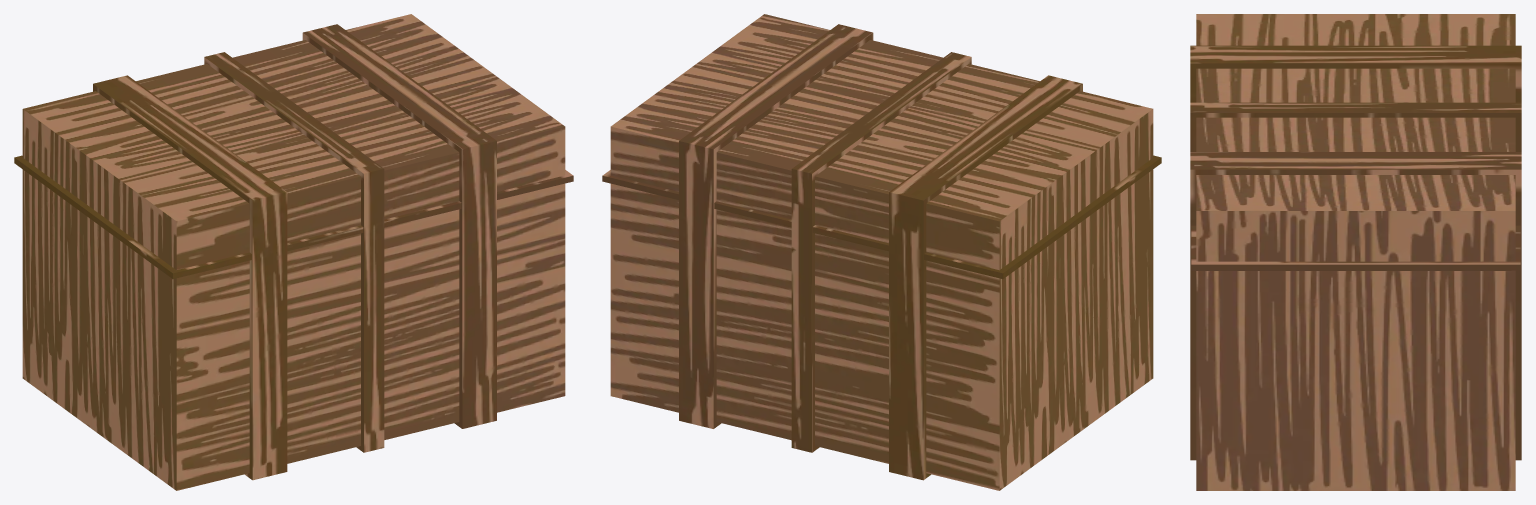
The model's file is bigBox_2050.glb.
3 renders of one model, left to right at view 1: azimuth 30°, elevation 25°; view 2: azimuth 150°, elevation 25°; view 3: azimuth 270°, elevation 25°, orthographic. The views are drawn at different scales.
Parts seen in each view (by area): view 1: BoiteGrosse; view 2: BoiteGrosse; view 3: BoiteGrosse.
Part boxes in pixels (bbox=[...]): BoiteGrosse: bbox=[14, 14, 573, 490]; BoiteGrosse: bbox=[602, 14, 1161, 490]; BoiteGrosse: bbox=[1190, 14, 1521, 490].
Size of the model in its own units: 1.75 by 1.17 by 1.21.
Materials: 1 (1 with a texture image).
